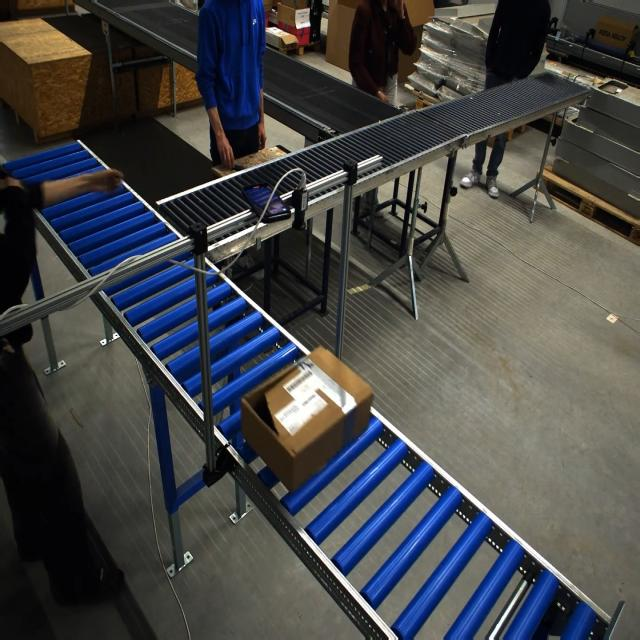box: (235, 343, 360, 485)
